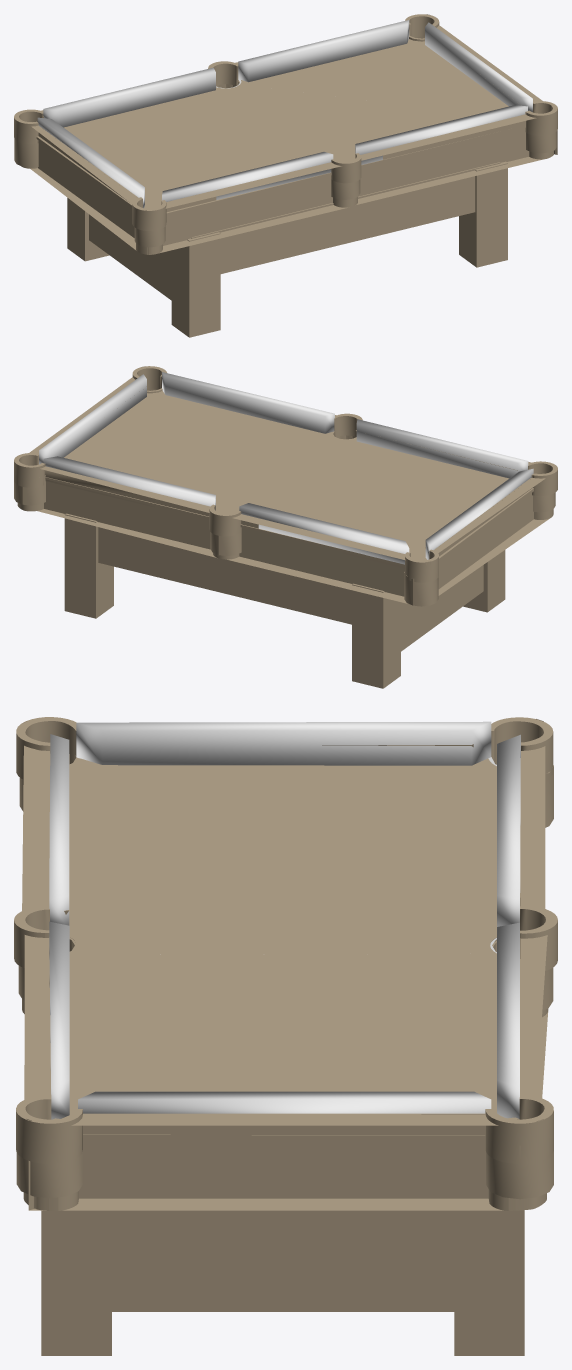
File: pool_final_physics_mine.fbx
The picture shows the model from 3 angles, top to bottom: view 1: azimuth 30°, elevation 25°; view 2: azimuth 150°, elevation 25°; view 3: azimuth 270°, elevation 25°; orthographic projection. The views are drawn at different scales.
Visible parts, largest first — view 1: pooltable, Cube_001, Cube_002, Cube_003, Cube_005, Cube, Cube_004; view 2: pooltable, Cube, Cube_003, Cube_002, Cube_005, Cube_001, Cube_004; view 3: pooltable, Cube_004, Cube_005, Cube_001, Cube_002, Cube, Cube_003.
Part boxes in pixels (left/top/right/bottom): pooltable: left=14, top=14, right=557, bottom=337; Cube_001: left=238, top=20, right=409, bottom=82; Cube_002: left=43, top=67, right=215, bottom=127; Cube_003: left=162, top=152, right=333, bottom=201; Cube_005: left=425, top=22, right=532, bottom=112; Cube: left=355, top=105, right=527, bottom=164; Cube_004: left=37, top=117, right=144, bottom=208; pooltable: left=14, top=366, right=557, bottom=688; Cube: left=162, top=372, right=334, bottom=433; Cube_003: left=356, top=419, right=528, bottom=478; Cube_002: left=239, top=503, right=409, bottom=564; Cube_005: left=39, top=374, right=146, bottom=464; Cube_001: left=43, top=456, right=215, bottom=510; Cube_004: left=425, top=468, right=533, bottom=559; pooltable: left=14, top=717, right=557, bottom=1355; Cube_004: left=76, top=721, right=491, bottom=765; Cube_005: left=78, top=1091, right=491, bottom=1113; Cube_001: left=497, top=922, right=519, bottom=1118; Cube_002: left=497, top=734, right=520, bottom=926; Cube: left=49, top=921, right=69, bottom=1119; Cube_003: left=49, top=734, right=69, bottom=925.
Size of the model in its own units: 66.69 by 22.18 by 37.72.
